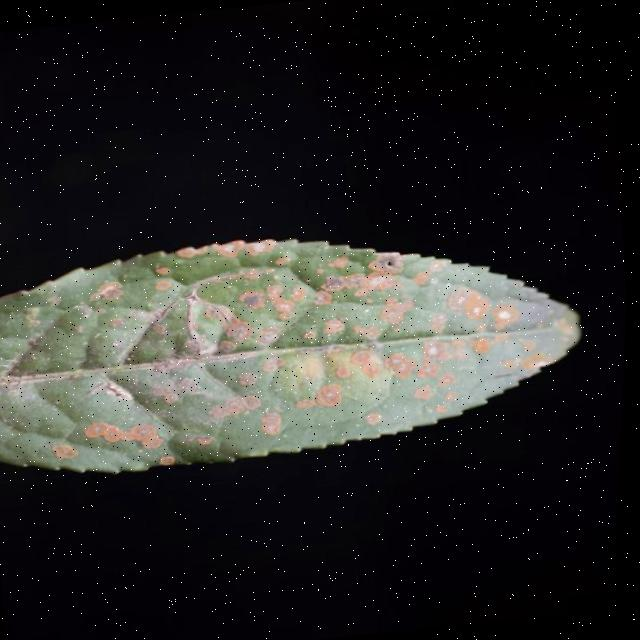Tea red rust: (1, 228, 548, 470)
